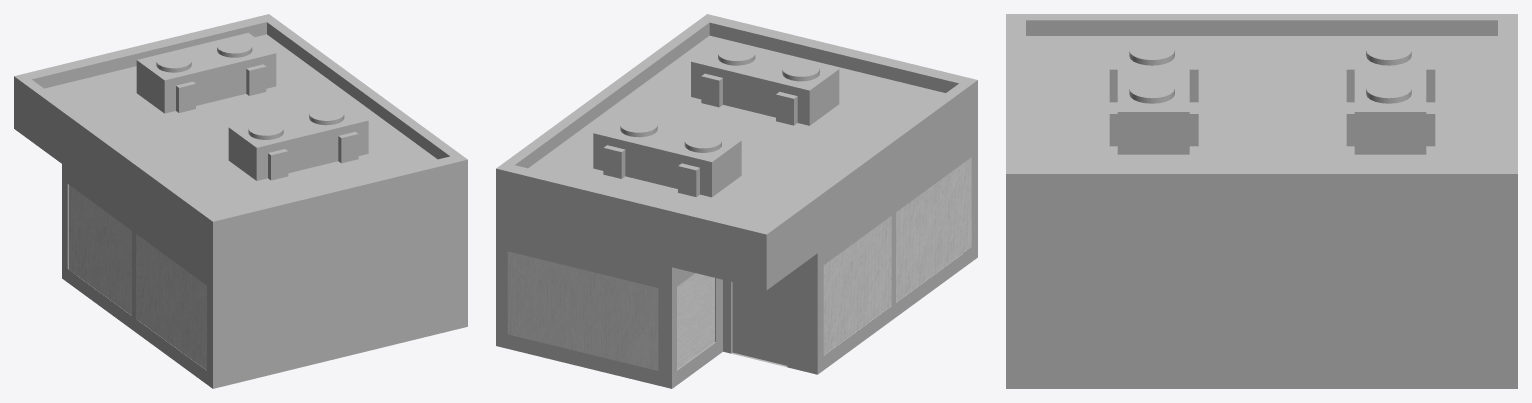
The model's file is commerce_building_A.fbx.
The picture shows the model from 3 angles, left to right: view 1: azimuth 30°, elevation 25°; view 2: azimuth 150°, elevation 25°; view 3: azimuth 270°, elevation 25°; orthographic projection. The views are drawn at different scales.
Visible parts, largest first — view 1: building_base, roof, AC_units, windows, AC_fans; view 2: building_base, windows, roof, AC_units, door, AC_fans; view 3: building_base, roof, AC_units, AC_fans.
Boxes of the visible parts, box(x1,y1,x2,y2) form: building_base: box(14, 14, 467, 388); roof: box(44, 34, 437, 213); AC_units: box(136, 32, 368, 180); windows: box(69, 185, 206, 370); AC_fans: box(156, 38, 344, 139); building_base: box(496, 14, 977, 388); windows: box(507, 157, 971, 370); roof: box(528, 35, 945, 225); AC_units: box(593, 40, 839, 197); door: box(732, 276, 787, 365); AC_fans: box(620, 45, 819, 152); building_base: box(1006, 14, 1517, 388); roof: box(1026, 36, 1497, 167); AC_units: box(1109, 41, 1435, 154); AC_fans: box(1129, 41, 1411, 103).
Bounding box in the file's own units: 1169 × 843 × 1580.
